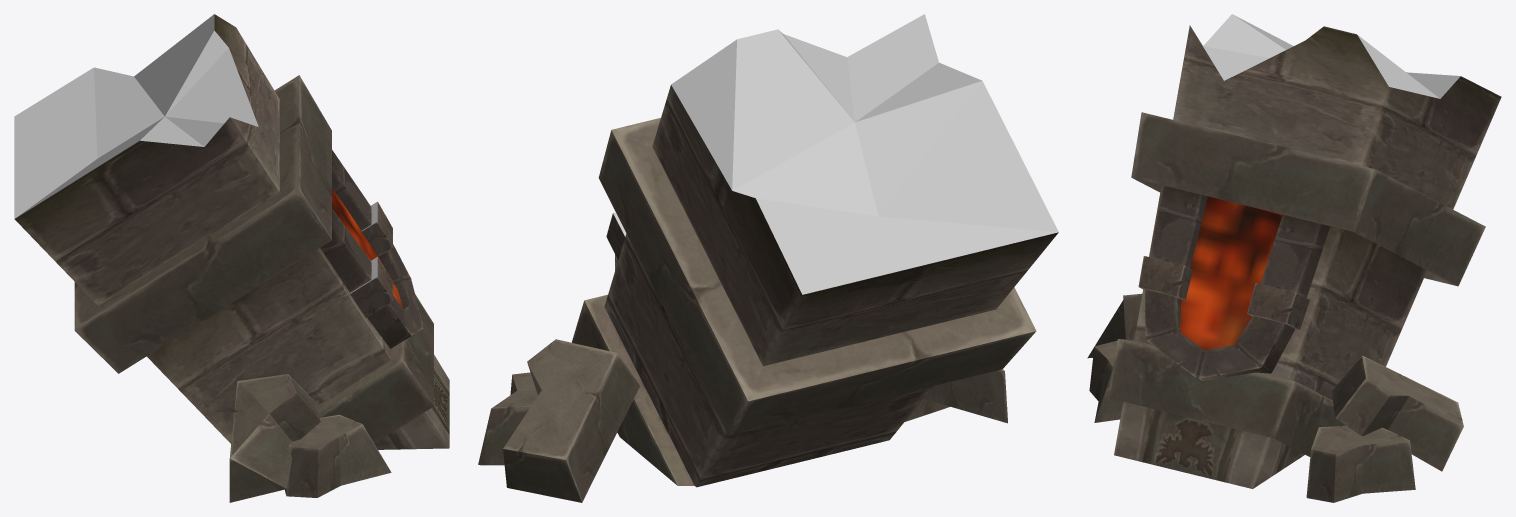
The model's file is building_city_zhuchengshizhu01_po1.FBX.
3 views of the same model, side by side, from view 1: azimuth 30°, elevation 25°; view 2: azimuth 150°, elevation 25°; view 3: azimuth 270°, elevation 25° (orthographic). The views are drawn at different scales.
Visible parts, largest first — view 1: building_city_zhuchengshizhu01_po1; view 2: building_city_zhuchengshizhu01_po1; view 3: building_city_zhuchengshizhu01_po1.
Boxes of the visible parts, x1,y1,x2,y2 form: building_city_zhuchengshizhu01_po1: (14, 14, 449, 502); building_city_zhuchengshizhu01_po1: (478, 14, 1058, 502); building_city_zhuchengshizhu01_po1: (1087, 14, 1501, 502).
Size of the model in its own units: 6.65 by 5.59 by 5.6.
